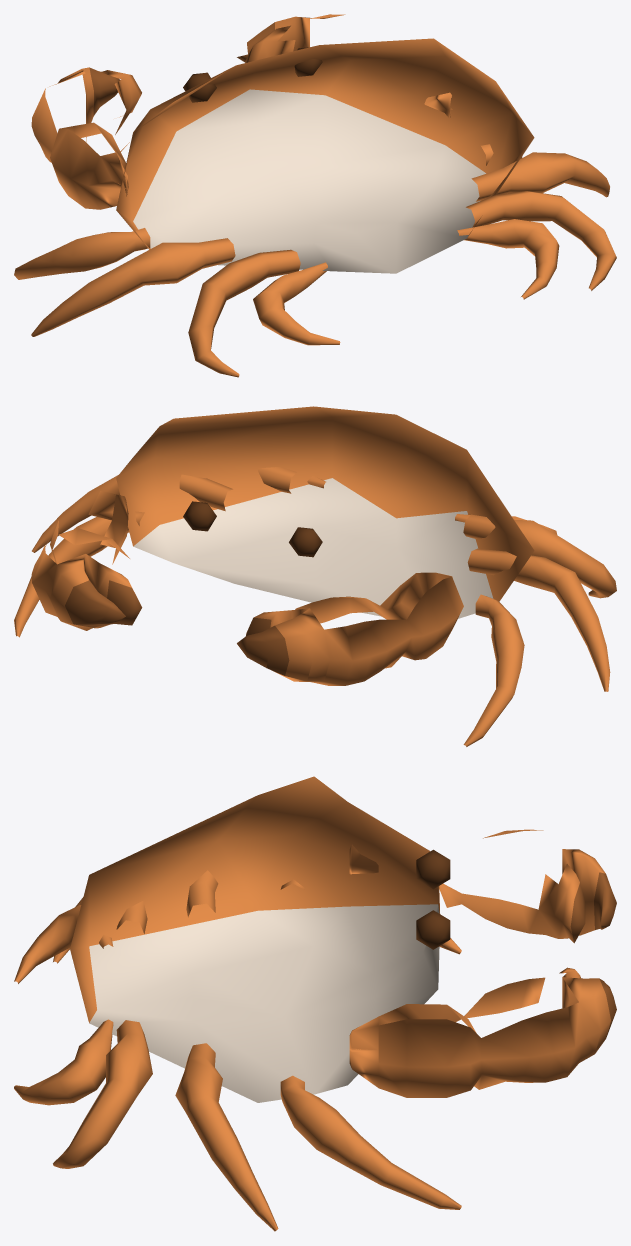
Rendered from Crab.glb.
3 renders of one model, top to bottom at view 1: azimuth 30°, elevation 25°; view 2: azimuth 150°, elevation 25°; view 3: azimuth 270°, elevation 25°, orthographic. The views are drawn at different scales.
Visible parts, largest first — view 1: Crab.1; view 2: Crab.1; view 3: Crab.1.
Boxes of the visible parts, bbox=[...] form: Crab.1: bbox=[14, 14, 616, 377]; Crab.1: bbox=[14, 406, 616, 746]; Crab.1: bbox=[14, 776, 616, 1231].
Size of the model in its own units: 780 by 273 by 602.
